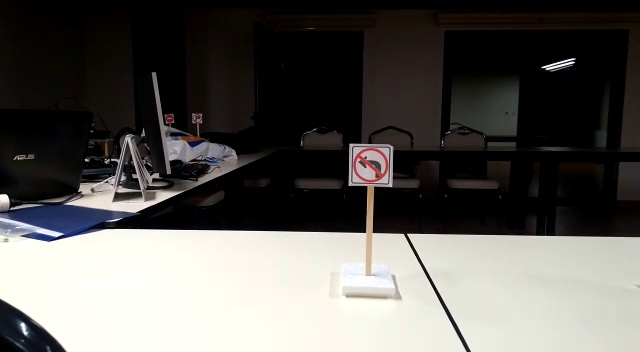sola_donulmez: (349, 145, 391, 184)
